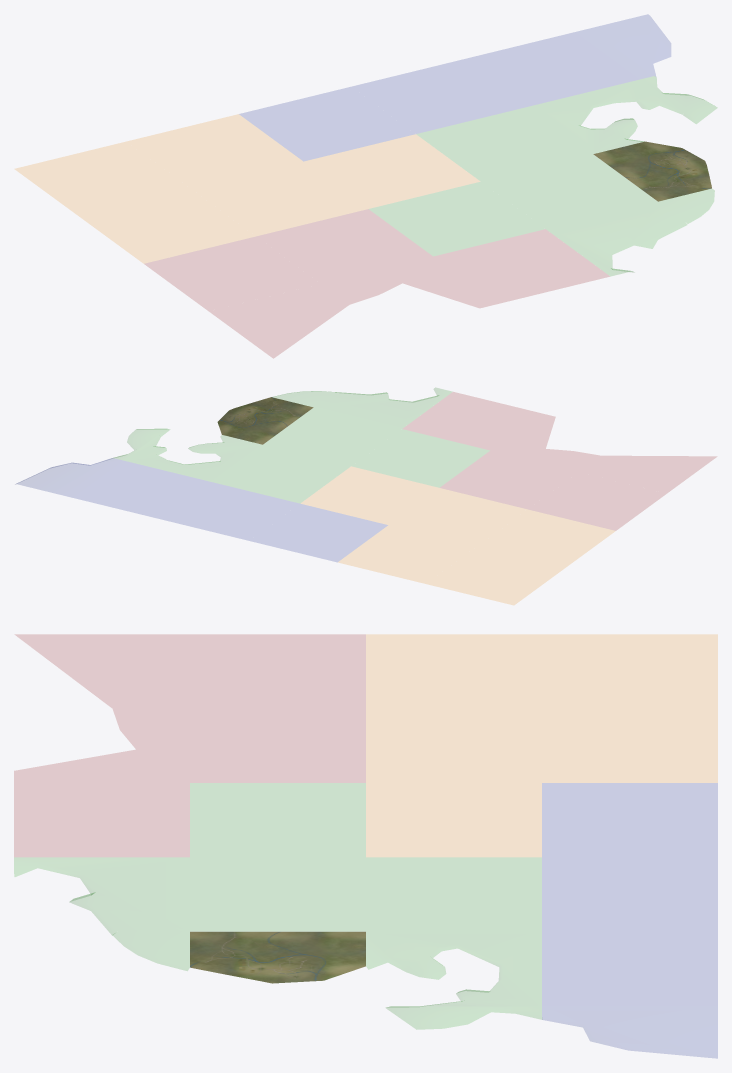
File: Bigmap_Ground.FBX
3 views of the same model, one above another, from view 1: azimuth 30°, elevation 25°; view 2: azimuth 150°, elevation 25°; view 3: azimuth 270°, elevation 25° (orthographic). The views are drawn at different scales.
Visible parts, largest first — view 1: Plane022, Plane005, Plane011, Plane013, Plane017, Plane023, Plane012, Plane016, Plane025, Plane018, Plane021, Plane024 (+10 smaller); view 2: Plane023, Plane005, Plane012, Plane019, Plane021, Plane010, Plane011, Plane013, Plane016, Plane018, Plane022, Plane025 (+10 smaller); view 3: Plane005, Plane011, Plane012, Plane017, Plane018, Plane021, Plane023, Plane024, Plane010, Plane013, Plane016, Plane019 (+10 smaller).
Boxes of the visible parts, x1,y1,x2,y2 form: Plane022: (353, 60, 527, 133); Plane005: (434, 229, 609, 303); Plane011: (369, 182, 543, 255); Plane013: (145, 237, 319, 310); Plane017: (305, 135, 479, 208); Plane023: (240, 87, 414, 160); Plane012: (257, 209, 431, 283); Plane016: (417, 107, 591, 180); Plane025: (15, 142, 189, 215); Plane018: (192, 162, 366, 235); Plane021: (464, 32, 638, 105); Plane024: (127, 114, 302, 188); Plane023: (250, 504, 387, 561); Plane005: (403, 392, 540, 449); Plane012: (440, 451, 577, 508); Plane019: (477, 510, 614, 567); Plane021: (73, 461, 210, 518); Plane010: (264, 408, 400, 465); Plane011: (353, 429, 488, 487); Plane013: (529, 473, 665, 530); Plane016: (213, 445, 349, 502); Plane018: (390, 488, 526, 545); Plane022: (162, 482, 298, 540); Plane025: (427, 547, 563, 604); Plane005: (14, 783, 189, 856); Plane011: (190, 783, 365, 856); Plane012: (190, 709, 365, 782); Plane017: (366, 783, 541, 856); Plane018: (366, 709, 541, 782); Plane021: (542, 932, 717, 1005); Plane023: (542, 783, 717, 856); Plane024: (542, 709, 717, 782); Plane010: (190, 858, 365, 930); Plane013: (190, 635, 365, 707); Plane016: (366, 858, 541, 930); Plane019: (366, 635, 541, 707).
Bounding box in the file's own units: 87.63 × 0.3414 × 61.89.
